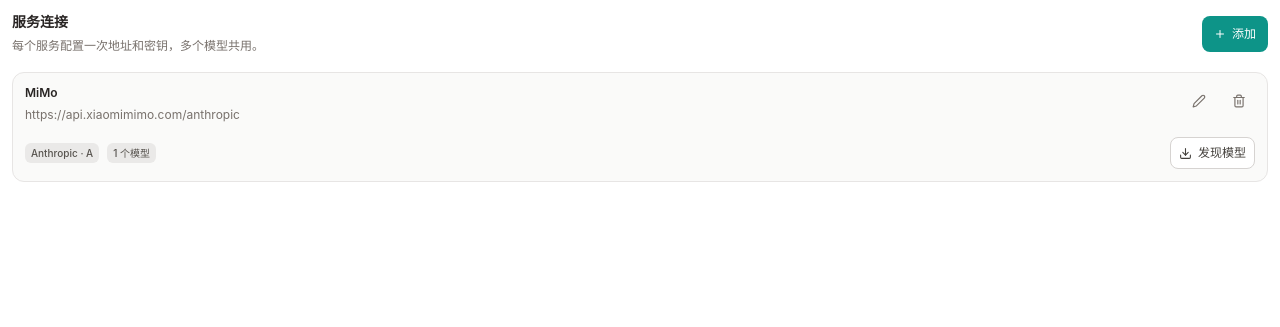
service model discovery › normalizes duplicate and blank IDs before counting or importing
This screenshot has width=1280, height=327.
Click the button "发现模型" at (1212, 153), box [1170, 137, 1255, 169]
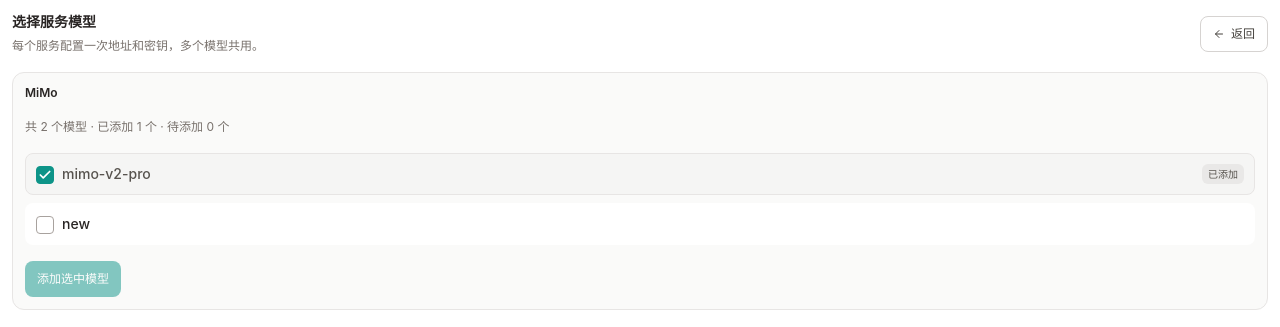
Expected: the checkbox labelled "mimo-v2-pro" is shown, [25, 153, 1255, 195]
Expected: the message shows "共 2 个模型", [25, 119, 229, 134]
